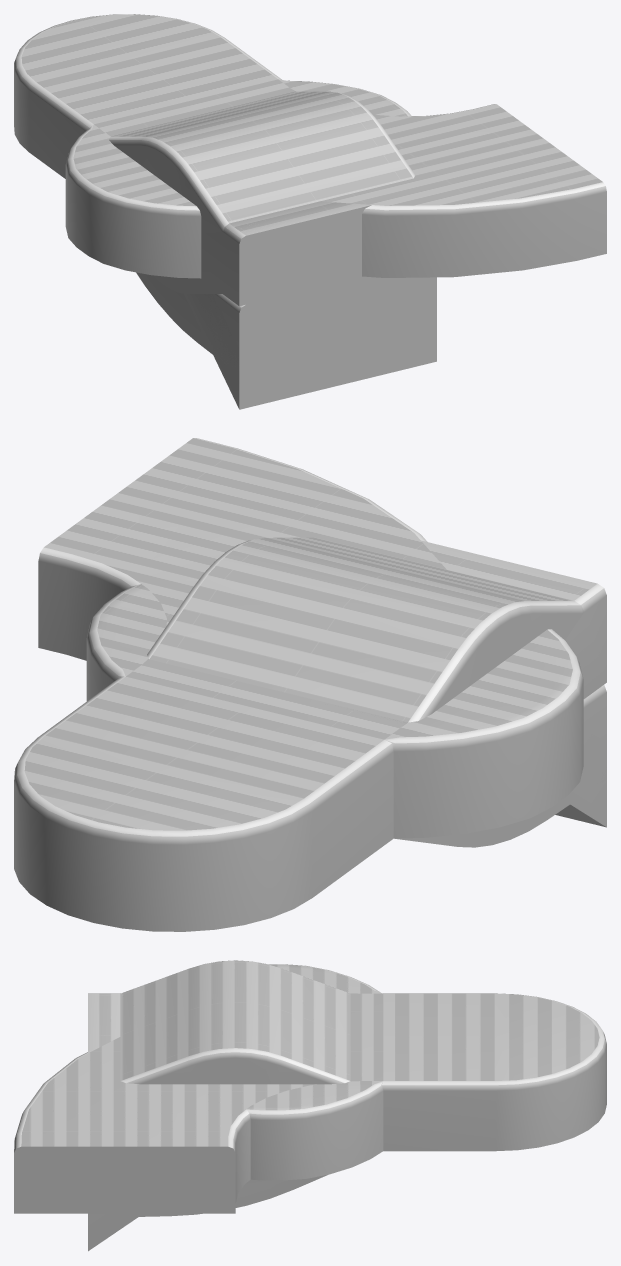
File: Floor_2x3_SoftEdge_thick.fbx
3 renders of one model, top to bottom at view 1: azimuth 30°, elevation 25°; view 2: azimuth 150°, elevation 25°; view 3: azimuth 270°, elevation 25°, orthographic. The views are drawn at different scales.
Visible parts, largest first — view 1: Floor_2x3_SE_T_rotate, Floor_2x3_SE_T_hill, Floor_2x3_sE_T_cap, Floor_2x3_SE_T_ramp1, Floor_2x3_sE_T_circle, Floor_2x3_SE_T_ramp2, Floor_2x3_SE_T_deep2, Floor_2x3_SE_T_deep1; view 2: Floor_2x3_sE_T_cap, Floor_2x3_SE_T_hill, Floor_2x3_SE_T_rotate, Floor_2x3_sE_T_circle, Floor_2x3_SE_T_deep2, Floor_2x3_SE_T_ramp2, Floor_2x3_SE_T_deep1, Floor_2x3_SE_T_ramp1; view 3: Floor_2x3_SE_T_rotate, Floor_2x3_sE_T_cap, Floor_2x3_SE_T_hill, Floor_2x3_sE_T_circle, Floor_2x3_SE_T_deep2, Floor_2x3_SE_T_ramp2, Floor_2x3_SE_T_ramp1.
Part boxes in pixels (x1,y1,x2,y2): Floor_2x3_SE_T_rotate: (94, 79, 606, 277); Floor_2x3_SE_T_hill: (109, 91, 415, 301); Floor_2x3_sE_T_cap: (14, 14, 281, 178); Floor_2x3_SE_T_ramp1: (184, 293, 436, 409); Floor_2x3_sE_T_circle: (65, 79, 411, 278); Floor_2x3_SE_T_ramp2: (136, 272, 436, 374); Floor_2x3_SE_T_deep2: (89, 125, 371, 306); Floor_2x3_SE_T_deep1: (153, 208, 361, 305); Floor_2x3_sE_T_cap: (14, 676, 393, 931); Floor_2x3_SE_T_hill: (147, 537, 606, 722); Floor_2x3_SE_T_rotate: (38, 438, 446, 739); Floor_2x3_sE_T_circle: (86, 584, 583, 838); Floor_2x3_SE_T_deep2: (353, 540, 606, 743); Floor_2x3_SE_T_ramp2: (395, 685, 606, 847); Floor_2x3_SE_T_deep1: (391, 588, 606, 749); Floor_2x3_SE_T_ramp1: (555, 728, 606, 827); Floor_2x3_SE_T_rotate: (14, 993, 383, 1213); Floor_2x3_sE_T_cap: (383, 993, 606, 1151); Floor_2x3_SE_T_hill: (120, 960, 350, 1084); Floor_2x3_sE_T_circle: (246, 964, 383, 1180); Floor_2x3_SE_T_deep2: (88, 993, 383, 1084); Floor_2x3_SE_T_ramp2: (139, 1174, 327, 1216); Floor_2x3_SE_T_ramp1: (88, 1083, 383, 1251).
Bounding box in the file's own units: 594 × 299 × 803.
